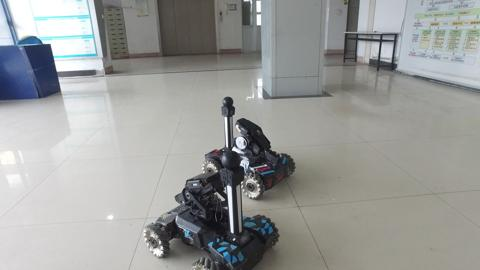chariot: (145, 147, 283, 270), (196, 95, 297, 202)
